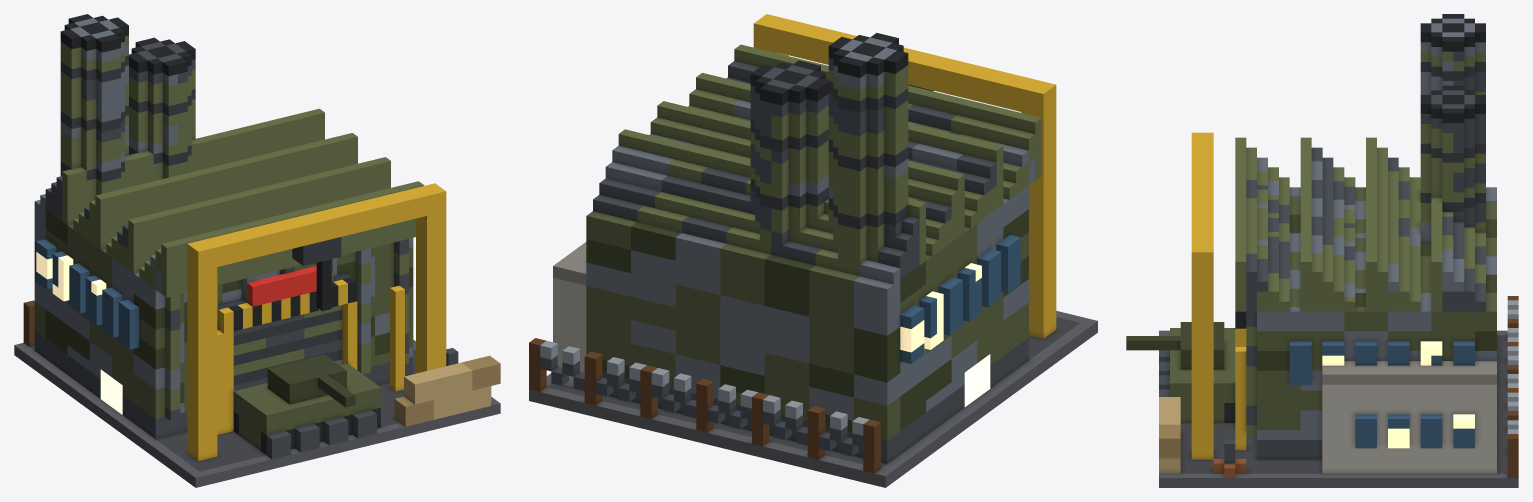
File: cm_factory_0.glb
3 views of the same model, side by side, from view 1: azimuth 30°, elevation 25°; view 2: azimuth 150°, elevation 25°; view 3: azimuth 270°, elevation 25° (orthographic). The views are drawn at different scales.
Visible parts, largest first — view 1: cm_factory_0_body; view 2: cm_factory_0_body; view 3: cm_factory_0_body.
Part boxes in pixels (x1,y1,x2,y2): cm_factory_0_body: [14, 14, 500, 487]; cm_factory_0_body: [529, 14, 1097, 487]; cm_factory_0_body: [1126, 14, 1518, 487].
Size of the model in its own units: 2 by 2.12 by 2.25.
Materials: 1 (1 with a texture image).
